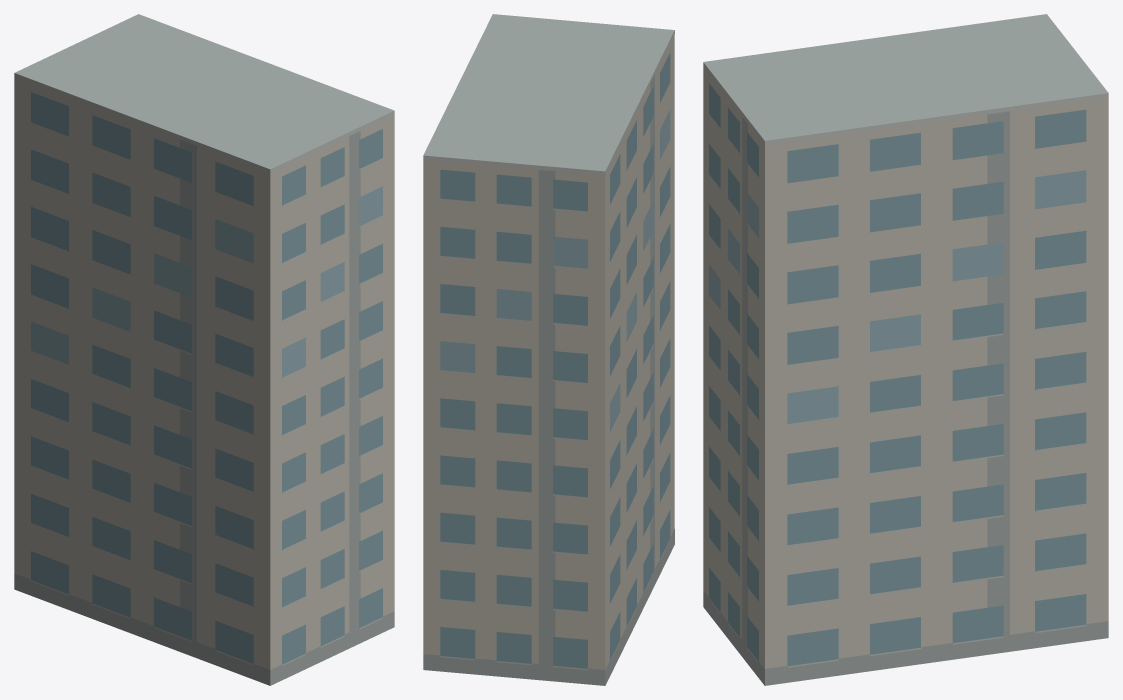
File: residential-0085fecd-a6d3-4f90-a340-5b86d1391e32.glb
3 renders of one model, left to right at view 1: azimuth 30°, elevation 25°; view 2: azimuth 150°, elevation 25°; view 3: azimuth 270°, elevation 25°, orthographic. The views are drawn at different scales.
Parts seen in each view (by area): view 1: residential-0085fecd-a6d3-4f90-a340-5b86d1391e32.tmp; view 2: residential-0085fecd-a6d3-4f90-a340-5b86d1391e32.tmp; view 3: residential-0085fecd-a6d3-4f90-a340-5b86d1391e32.tmp.
Boxes of the visible parts, box(x1,y1,x2,y2) form: residential-0085fecd-a6d3-4f90-a340-5b86d1391e32.tmp: box(14, 14, 394, 685); residential-0085fecd-a6d3-4f90-a340-5b86d1391e32.tmp: box(423, 14, 674, 685); residential-0085fecd-a6d3-4f90-a340-5b86d1391e32.tmp: box(703, 14, 1108, 685).
Bounding box in the file's own units: 15 × 30 × 20.24.
